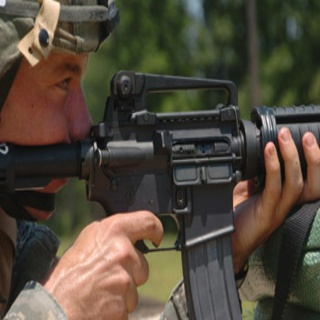rifle: (1, 66, 320, 320)
